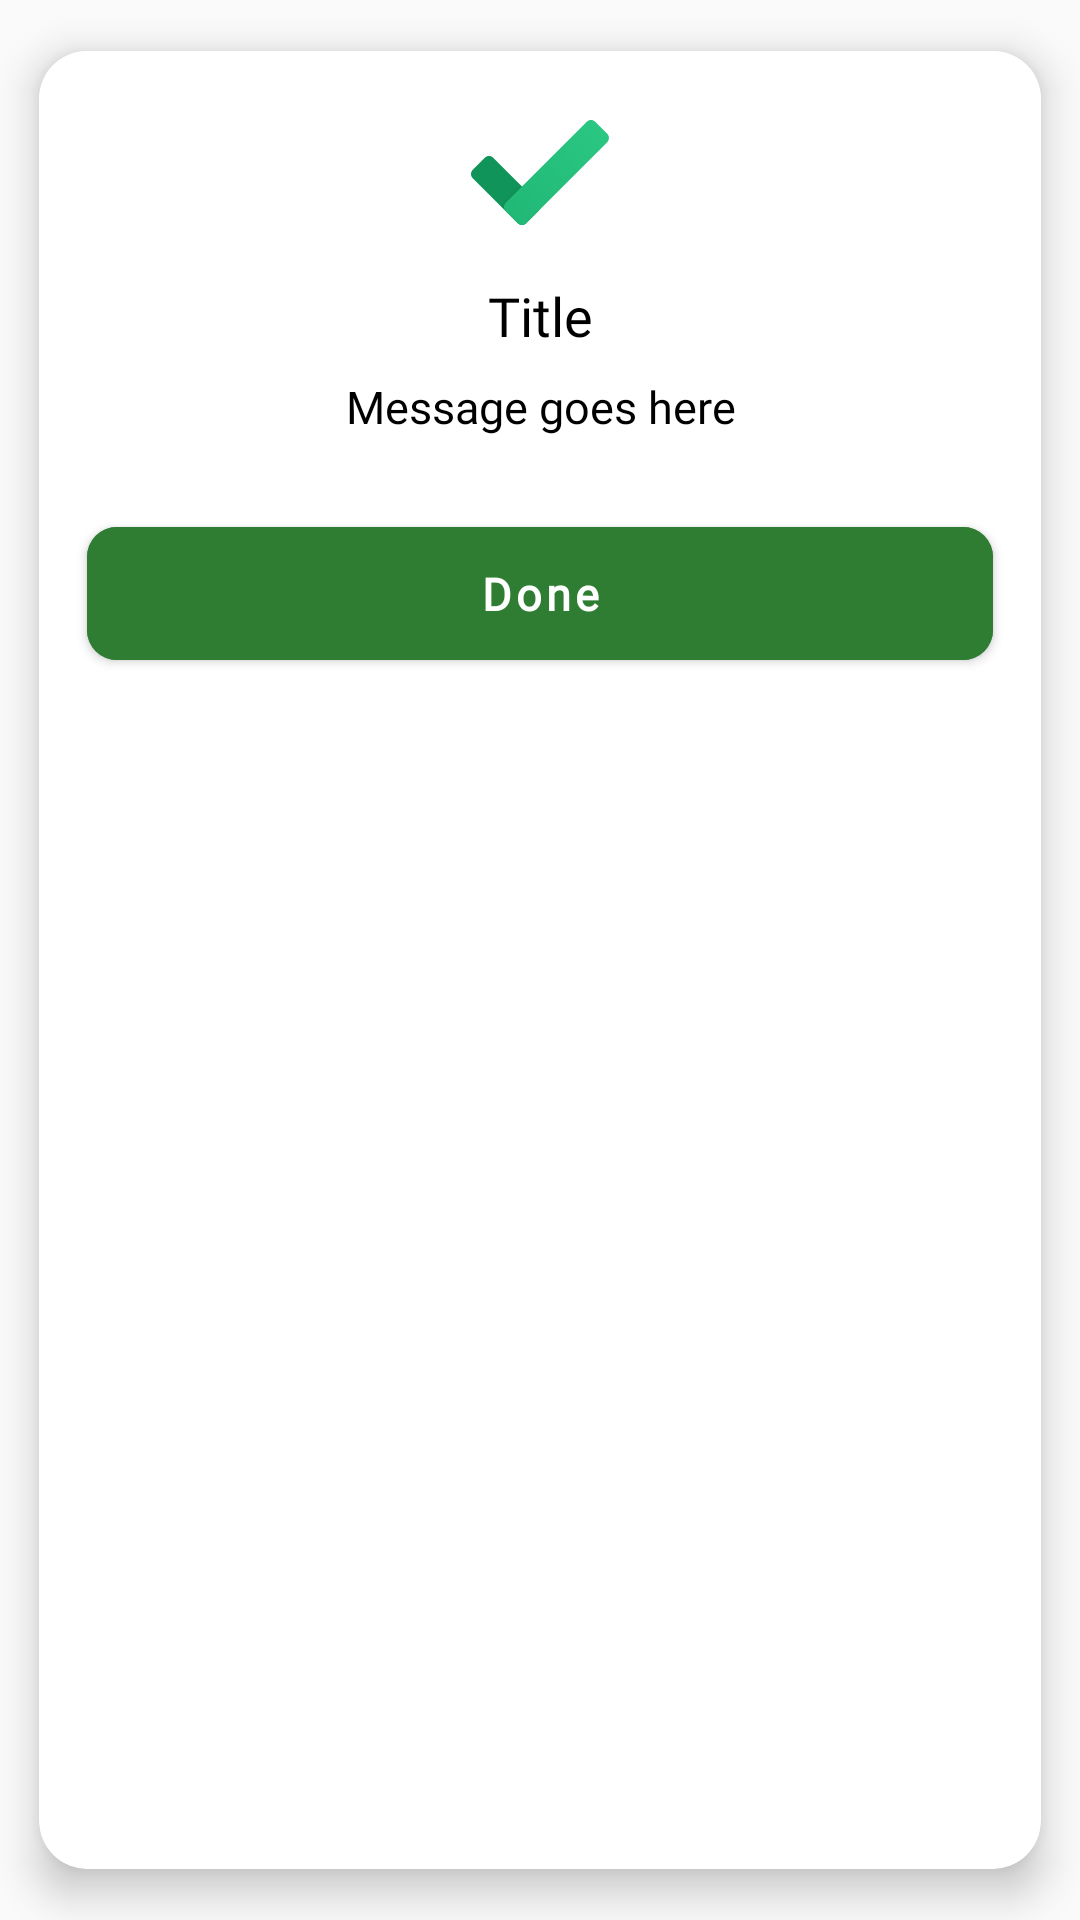

Named icons in this screenshot (1080 × 1920) and their bounding boxes, (x1, y1, x2, y2):
success: (471, 120, 609, 225)
